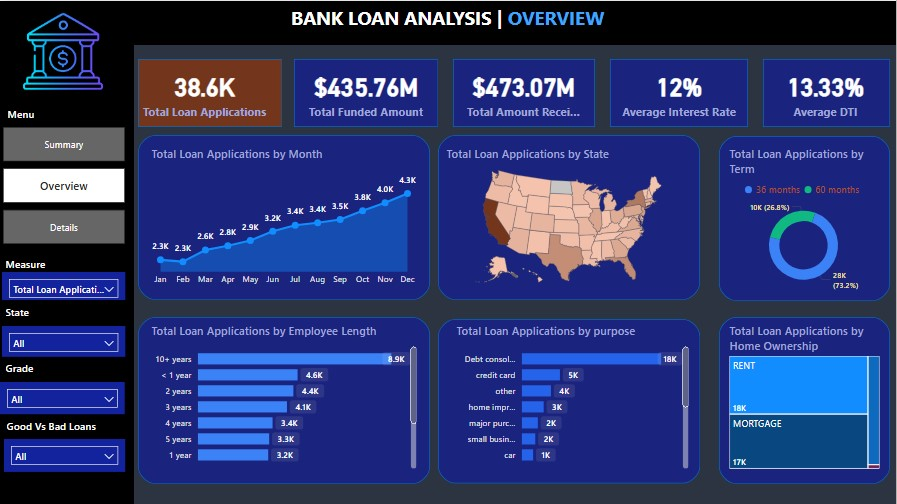

What the dashboard file says about the page in this screenshot:
{"tool":"powerbi","page":{"name":"Overview","canvas":[1280,720],"ordinal":1},"visuals":[{"type":"shape","box":[0,0,1280,62.8],"z":0},{"type":"shape","box":[198.4,82.8,205.5,97],"z":1000},{"type":"shape","box":[0,42.8,192.6,677.8],"z":2000},{"type":"textbox","box":[0,0,1280,62.8],"z":3000},{"type":"textbox","box":[192.6,308.2,195.5,28.5],"z":4000},{"type":"shape","box":[421,82.8,205.5,97],"z":5000},{"type":"shape","box":[647.8,82.8,202.6,97],"z":6000},{"type":"shape","box":[1090.2,82.8,181.2,97],"z":7000},{"type":"shape","box":[871.9,82.8,196.9,97],"z":8000},{"type":"card","fields":{"Values":["bank_loan_db bank_loan_analysis.Total Loan Applications"]},"box":[198.4,88.5,189.8,84.2],"z":9000},{"type":"card","fields":{"Values":["bank_loan_db bank_loan_analysis.Total Funded Amount"]},"box":[433.8,88.5,179.8,84.2],"z":10000},{"type":"card","fields":{"Values":["bank_loan_db bank_loan_analysis.Total Amount Received"]},"box":[662.1,88.5,172.7,84.2],"z":11000},{"type":"card","fields":{"Values":["bank_loan_db bank_loan_analysis.Average Interest Rate"]},"box":[883.3,88.5,174.1,84.2],"z":12000},{"type":"card","fields":{"Values":["bank_loan_db bank_loan_analysis.Average DTI"]},"box":[1100.2,88.5,158.4,84.2],"z":13000},{"type":"shape","box":[198.4,191.2,416.7,235.5],"z":14000},{"type":"textbox","box":[232.4,191.3,202,41.1],"z":15000},{"type":"textbox","box":[761.6,193.1,202,41.1],"z":16000},{"type":"slicer","fields":{"Values":["bank_loan_db bank_loan_analysis.address_state"]},"box":[4.3,463.8,175.5,44.2],"z":17000},{"type":"textbox","box":[4.3,428.1,178.4,31.4],"z":18000},{"type":"slicer","fields":{"Values":["bank_loan_db bank_loan_analysis.grade"]},"box":[1.4,543.7,178.4,45.7],"z":19000},{"type":"textbox","box":[4.3,508,184.1,35.7],"z":20000},{"type":"slicer","fields":{"Values":["bank_loan_db bank_loan_analysis.Good vs Bad Loans"]},"box":[7.1,625,172.7,47.1],"z":21000},{"type":"textbox","box":[5.7,590.8,179.8,34.2],"z":22000},{"type":"areaChart","fields":{"Y":["bank_loan_db bank_loan_analysis.Total Loan Applications"],"Category":["Date Table.Month"]},"box":[212.6,206.9,388.1,208.3],"z":23000},{"type":"slicer","fields":{"Values":["Select Measure.Select Measure"]},"box":[4.3,386.7,175.5,40],"z":24000},{"type":"textbox","box":[4.3,359.6,188.4,34.2],"z":25000},{"type":"shape","box":[626.4,191.2,373.9,235.5],"z":26000},{"type":"shapeMap","fields":{"Value":["bank_loan_db bank_loan_analysis.Total Loan Applications"],"Category":["bank_loan_db bank_loan_analysis.address_state"]},"box":[633.6,206.9,358.2,208.3],"z":27000},{"type":"shape","box":[1027.4,192.6,244,235.5],"z":28000},{"type":"donutChart","title":"Total Loan Applications by Term","fields":{"Y":["bank_loan_db bank_loan_analysis.Total Loan Applications"],"Category":["bank_loan_db bank_loan_analysis.term"]},"box":[1037.4,206.9,221.2,212.6],"z":29000},{"type":"shape","box":[625.8,454.2,374.2,234.8],"z":30000},{"type":"shape","box":[198.4,450.9,416.7,238.3],"z":31000},{"type":"shape","box":[1027.4,450.9,244,238.3],"z":32000},{"type":"barChart","title":"Total Loan Applications by Employee Length","fields":{"Y":["bank_loan_db bank_loan_analysis.Total Loan Applications"],"Category":["bank_loan_db bank_loan_analysis.emp_length"]},"box":[212.6,459.5,388.1,212.6],"z":33000},{"type":"barChart","fields":{"Y":["bank_loan_db bank_loan_analysis.Total Loan Applications"],"Category":["bank_loan_db bank_loan_analysis.purpose"]},"box":[647.8,459.5,341,212.6],"z":34000},{"type":"treemap","title":"Total Loan Applications by Home Ownership","fields":{"Values":["bank_loan_db bank_loan_analysis.Total Loan Applications"],"Group":["bank_loan_db bank_loan_analysis.home_ownership"]},"box":[1037.4,459.5,224,212.6],"z":35000},{"type":"pageNavigator","box":[5.7,179.8,174.1,168.4],"z":36000},{"type":"textbox","box":[7.1,145.6,188.4,34.2],"z":37000},{"type":"image","box":[2.9,0,176.9,145.6],"z":38000}]}

Visuals, with their boxes in screenshot pixels (x1, y1, x2, y2), scaled from the page's 1280x720 canvas onto the 897x504 screenshot:
shape: [0,0,896,44]
shape: [139,58,283,126]
shape: [0,30,135,503]
textbox: [0,0,896,44]
textbox: [135,216,272,236]
shape: [295,58,439,126]
shape: [454,58,596,126]
shape: [764,58,891,126]
shape: [611,58,749,126]
card - bank_loan_db bank_loan_analysis.Total Loan Applications: [139,62,272,121]
card - bank_loan_db bank_loan_analysis.Total Funded Amount: [304,62,430,121]
card - bank_loan_db bank_loan_analysis.Total Amount Received: [464,62,585,121]
card - bank_loan_db bank_loan_analysis.Average Interest Rate: [619,62,741,121]
card - bank_loan_db bank_loan_analysis.Average DTI: [771,62,882,121]
shape: [139,134,431,299]
textbox: [163,134,304,163]
textbox: [534,135,675,164]
slicer - bank_loan_db bank_loan_analysis.address_state: [3,325,126,356]
textbox: [3,300,128,322]
slicer - bank_loan_db bank_loan_analysis.grade: [1,381,126,413]
textbox: [3,356,132,381]
slicer - bank_loan_db bank_loan_analysis.Good vs Bad Loans: [5,438,126,470]
textbox: [4,414,130,438]
areaChart - bank_loan_db bank_loan_analysis.Total Loan Applications x Date Table.Month: [149,145,421,291]
slicer - Select Measure.Select Measure: [3,271,126,299]
textbox: [3,252,135,276]
shape: [439,134,701,299]
shapeMap - bank_loan_db bank_loan_analysis.Total Loan Applications x bank_loan_db bank_loan_analysis.address_state: [444,145,695,291]
shape: [720,135,891,300]
"Total Loan Applications by Term" donutChart: [727,145,882,294]
shape: [439,318,701,482]
shape: [139,316,431,482]
shape: [720,316,891,482]
"Total Loan Applications by Employee Length" barChart: [149,322,421,470]
barChart - bank_loan_db bank_loan_analysis.Total Loan Applications x bank_loan_db bank_loan_analysis.purpose: [454,322,693,470]
"Total Loan Applications by Home Ownership" treemap: [727,322,884,470]
pageNavigator: [4,126,126,244]
textbox: [5,102,137,126]
image: [2,0,126,102]
